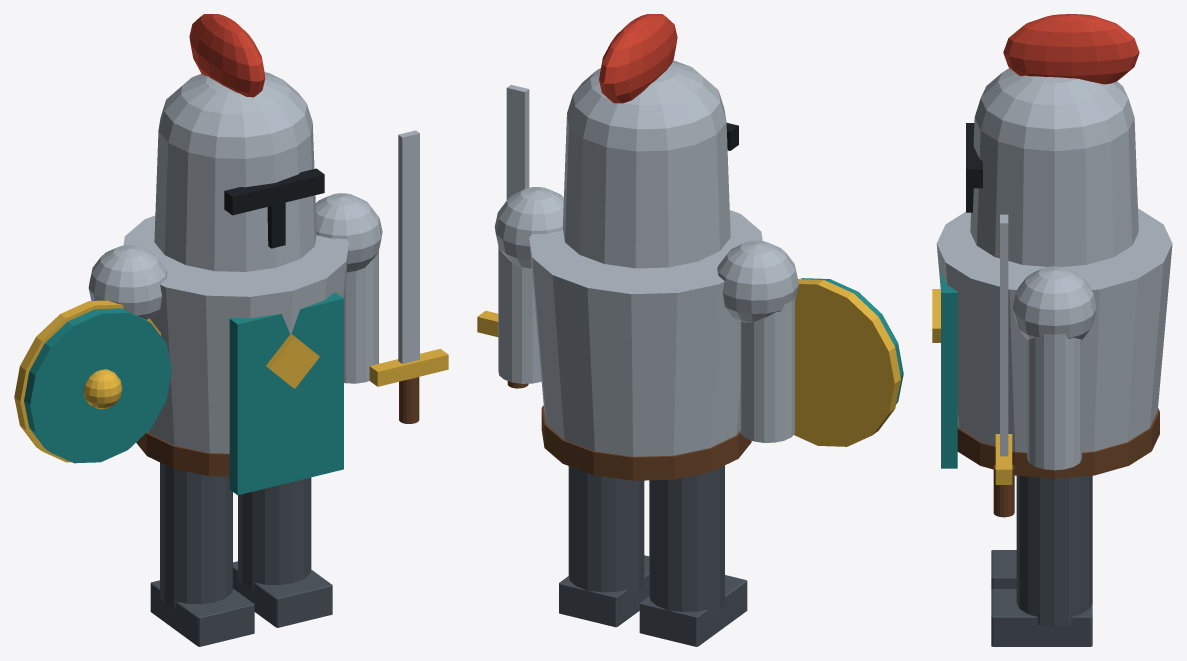
File: knight-lod0.glb
The picture shows the model from 3 angles, left to right: view 1: azimuth 30°, elevation 25°; view 2: azimuth 150°, elevation 25°; view 3: azimuth 270°, elevation 25°; orthographic projection. The views are drawn at different scales.
Visible parts, largest first — view 1: knight; view 2: knight; view 3: knight.
Part boxes in pixels (x1,y1,x2,y2): knight: [14, 14, 448, 646]; knight: [477, 14, 903, 646]; knight: [932, 14, 1172, 646].
Size of the model in its own units: 1.17 by 1.57 by 0.57.
